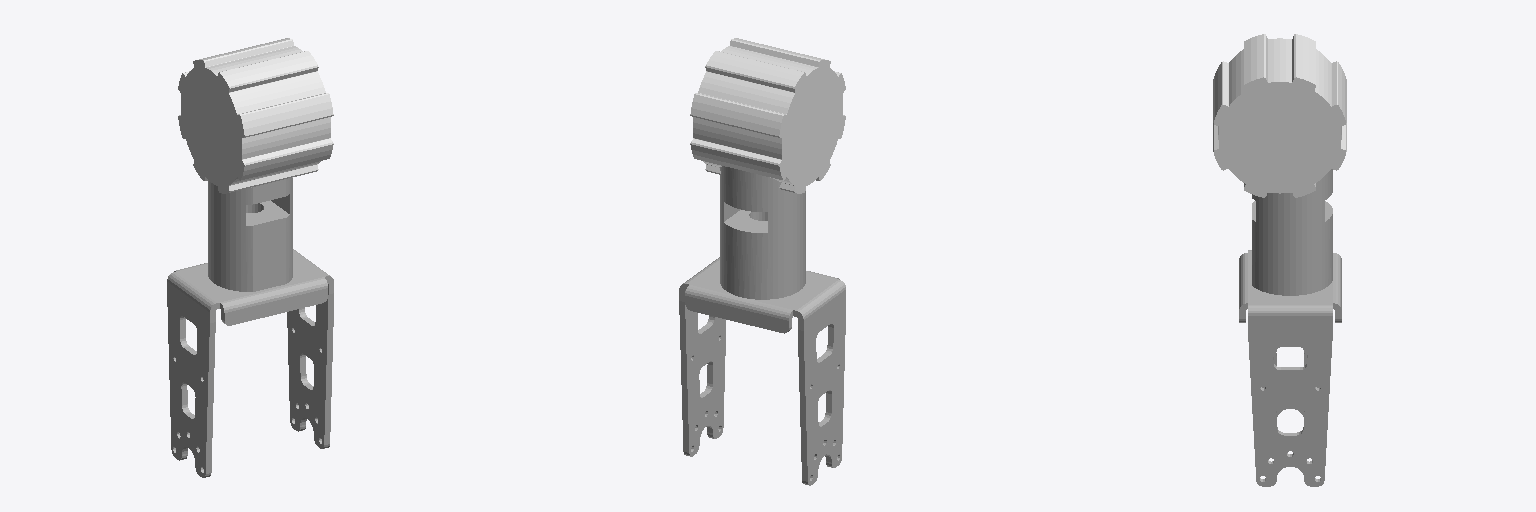
Rendered from shank.obj.
3 renders of one model, left to right at view 1: azimuth 30°, elevation 25°; view 2: azimuth 150°, elevation 25°; view 3: azimuth 270°, elevation 25°, orthographic.
Parts seen in each view (by area): view 1: Solid5, Solid1, Solid7; view 2: Solid5, Solid1, Solid7; view 3: Solid5, Solid1, Solid7.
Part boxes in pixels (bbox=[...]): Solid5: bbox=[178, 38, 333, 193]; Solid1: bbox=[167, 249, 333, 477]; Solid7: bbox=[208, 178, 292, 291]; Solid5: bbox=[690, 38, 845, 193]; Solid1: bbox=[679, 257, 845, 485]; Solid7: bbox=[720, 166, 805, 299]; Solid5: bbox=[1213, 34, 1346, 197]; Solid1: bbox=[1239, 250, 1341, 486]; Solid7: bbox=[1252, 169, 1332, 295].
Size of the model in its own units: 0.042 by 0.1291 by 0.0389.